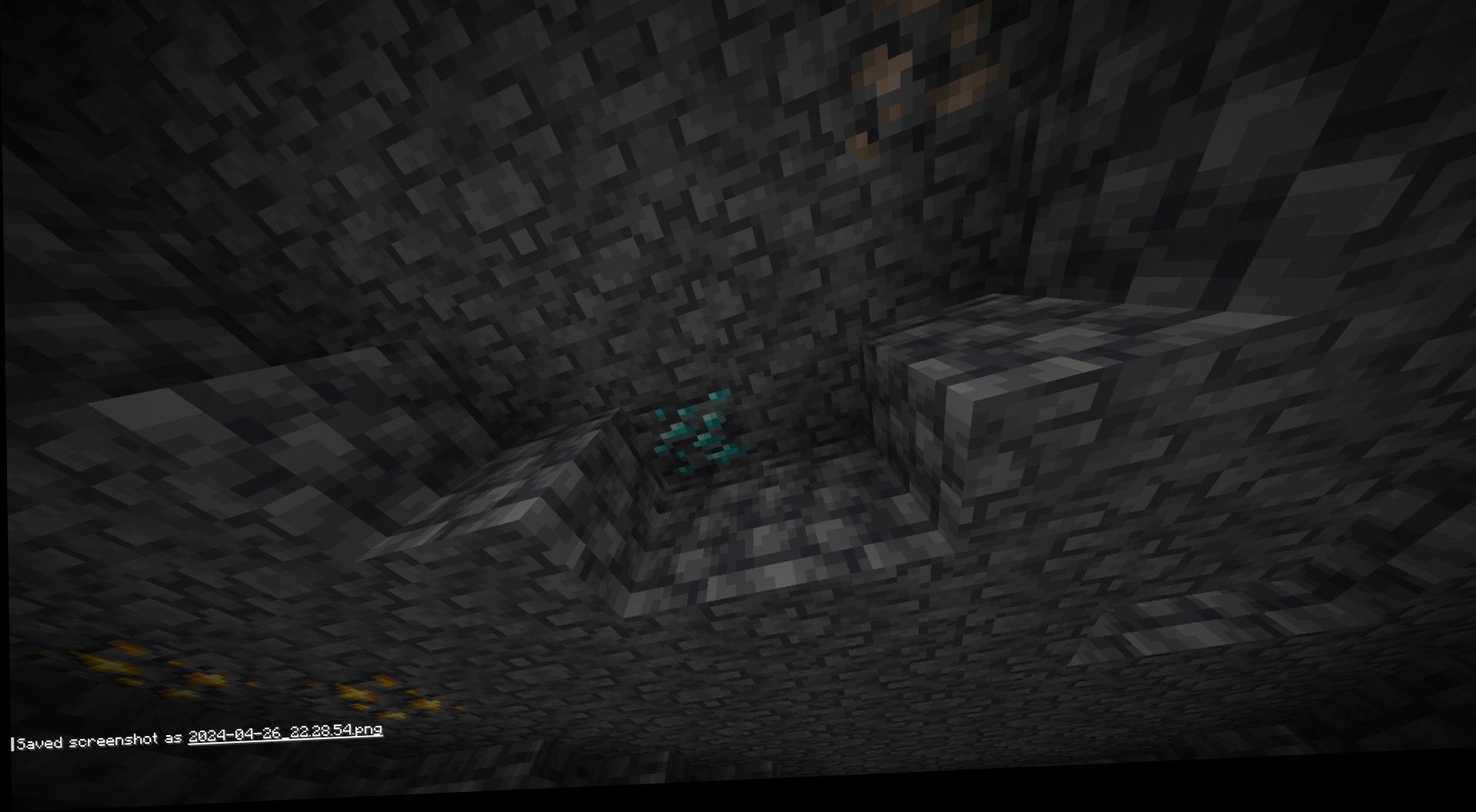diamond ore: (648, 392, 741, 487)
gold ore: (50, 628, 275, 715), (298, 663, 457, 730)
iron ore: (830, 0, 1015, 172)
